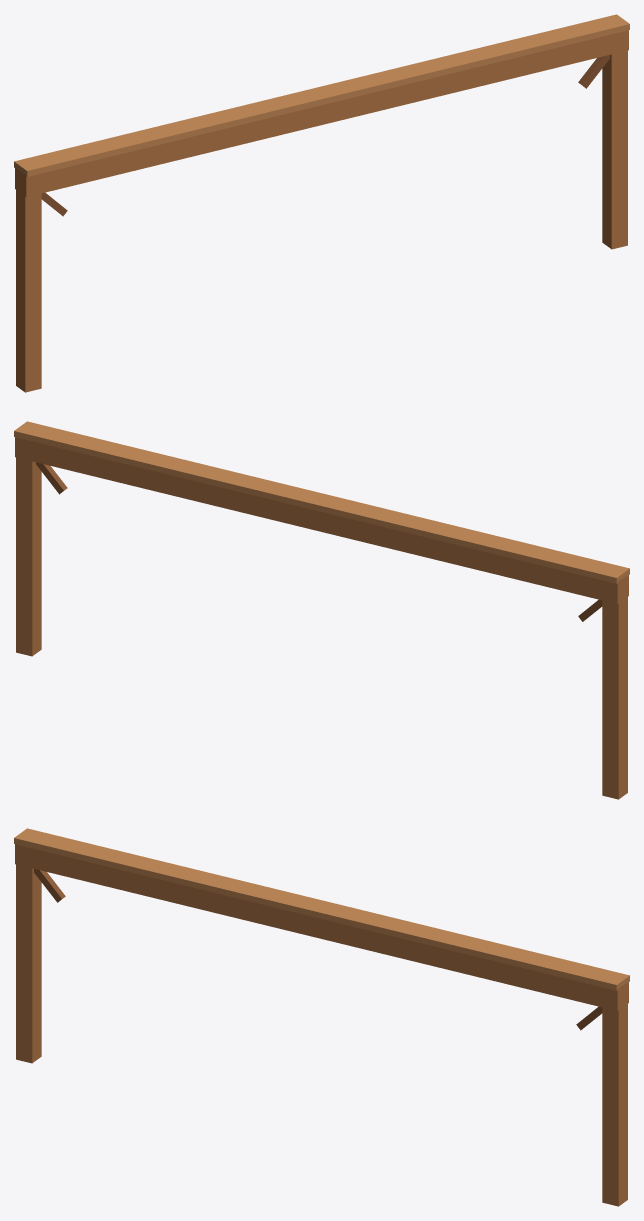
File: terrarium_frame_wide.glb
The picture shows the model from 3 angles, top to bottom: view 1: azimuth 30°, elevation 25°; view 2: azimuth 150°, elevation 25°; view 3: azimuth 330°, elevation 25°; orthographic projection.
Parts seen in each view (by area): view 1: terrarium_frame_wide; view 2: terrarium_frame_wide; view 3: terrarium_frame_wide.
Part boxes in pixels (box(x1,y1,x2,y2)): terrarium_frame_wide: box(14, 14, 629, 392); terrarium_frame_wide: box(14, 421, 629, 799); terrarium_frame_wide: box(14, 828, 629, 1206).
Bounding box in the file's own units: 7.4 × 2.62 × 0.28.
Materials: 1 (1 with a texture image).
